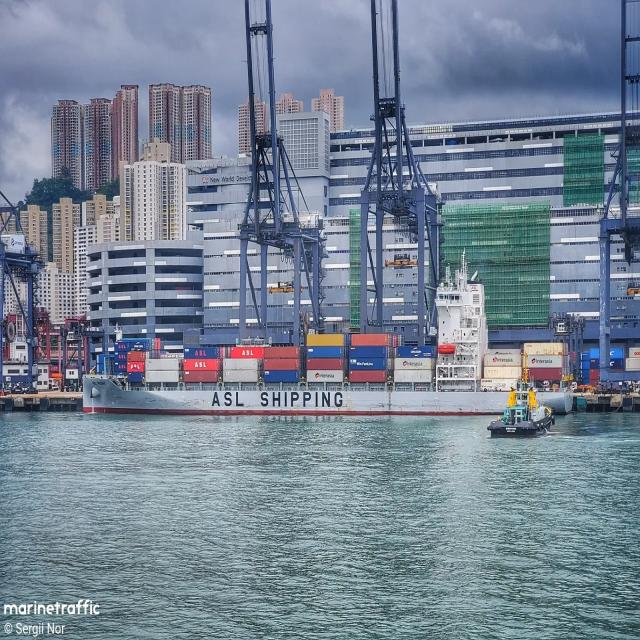Cargo: (83, 270, 572, 414)
Tug: (488, 382, 554, 436)
